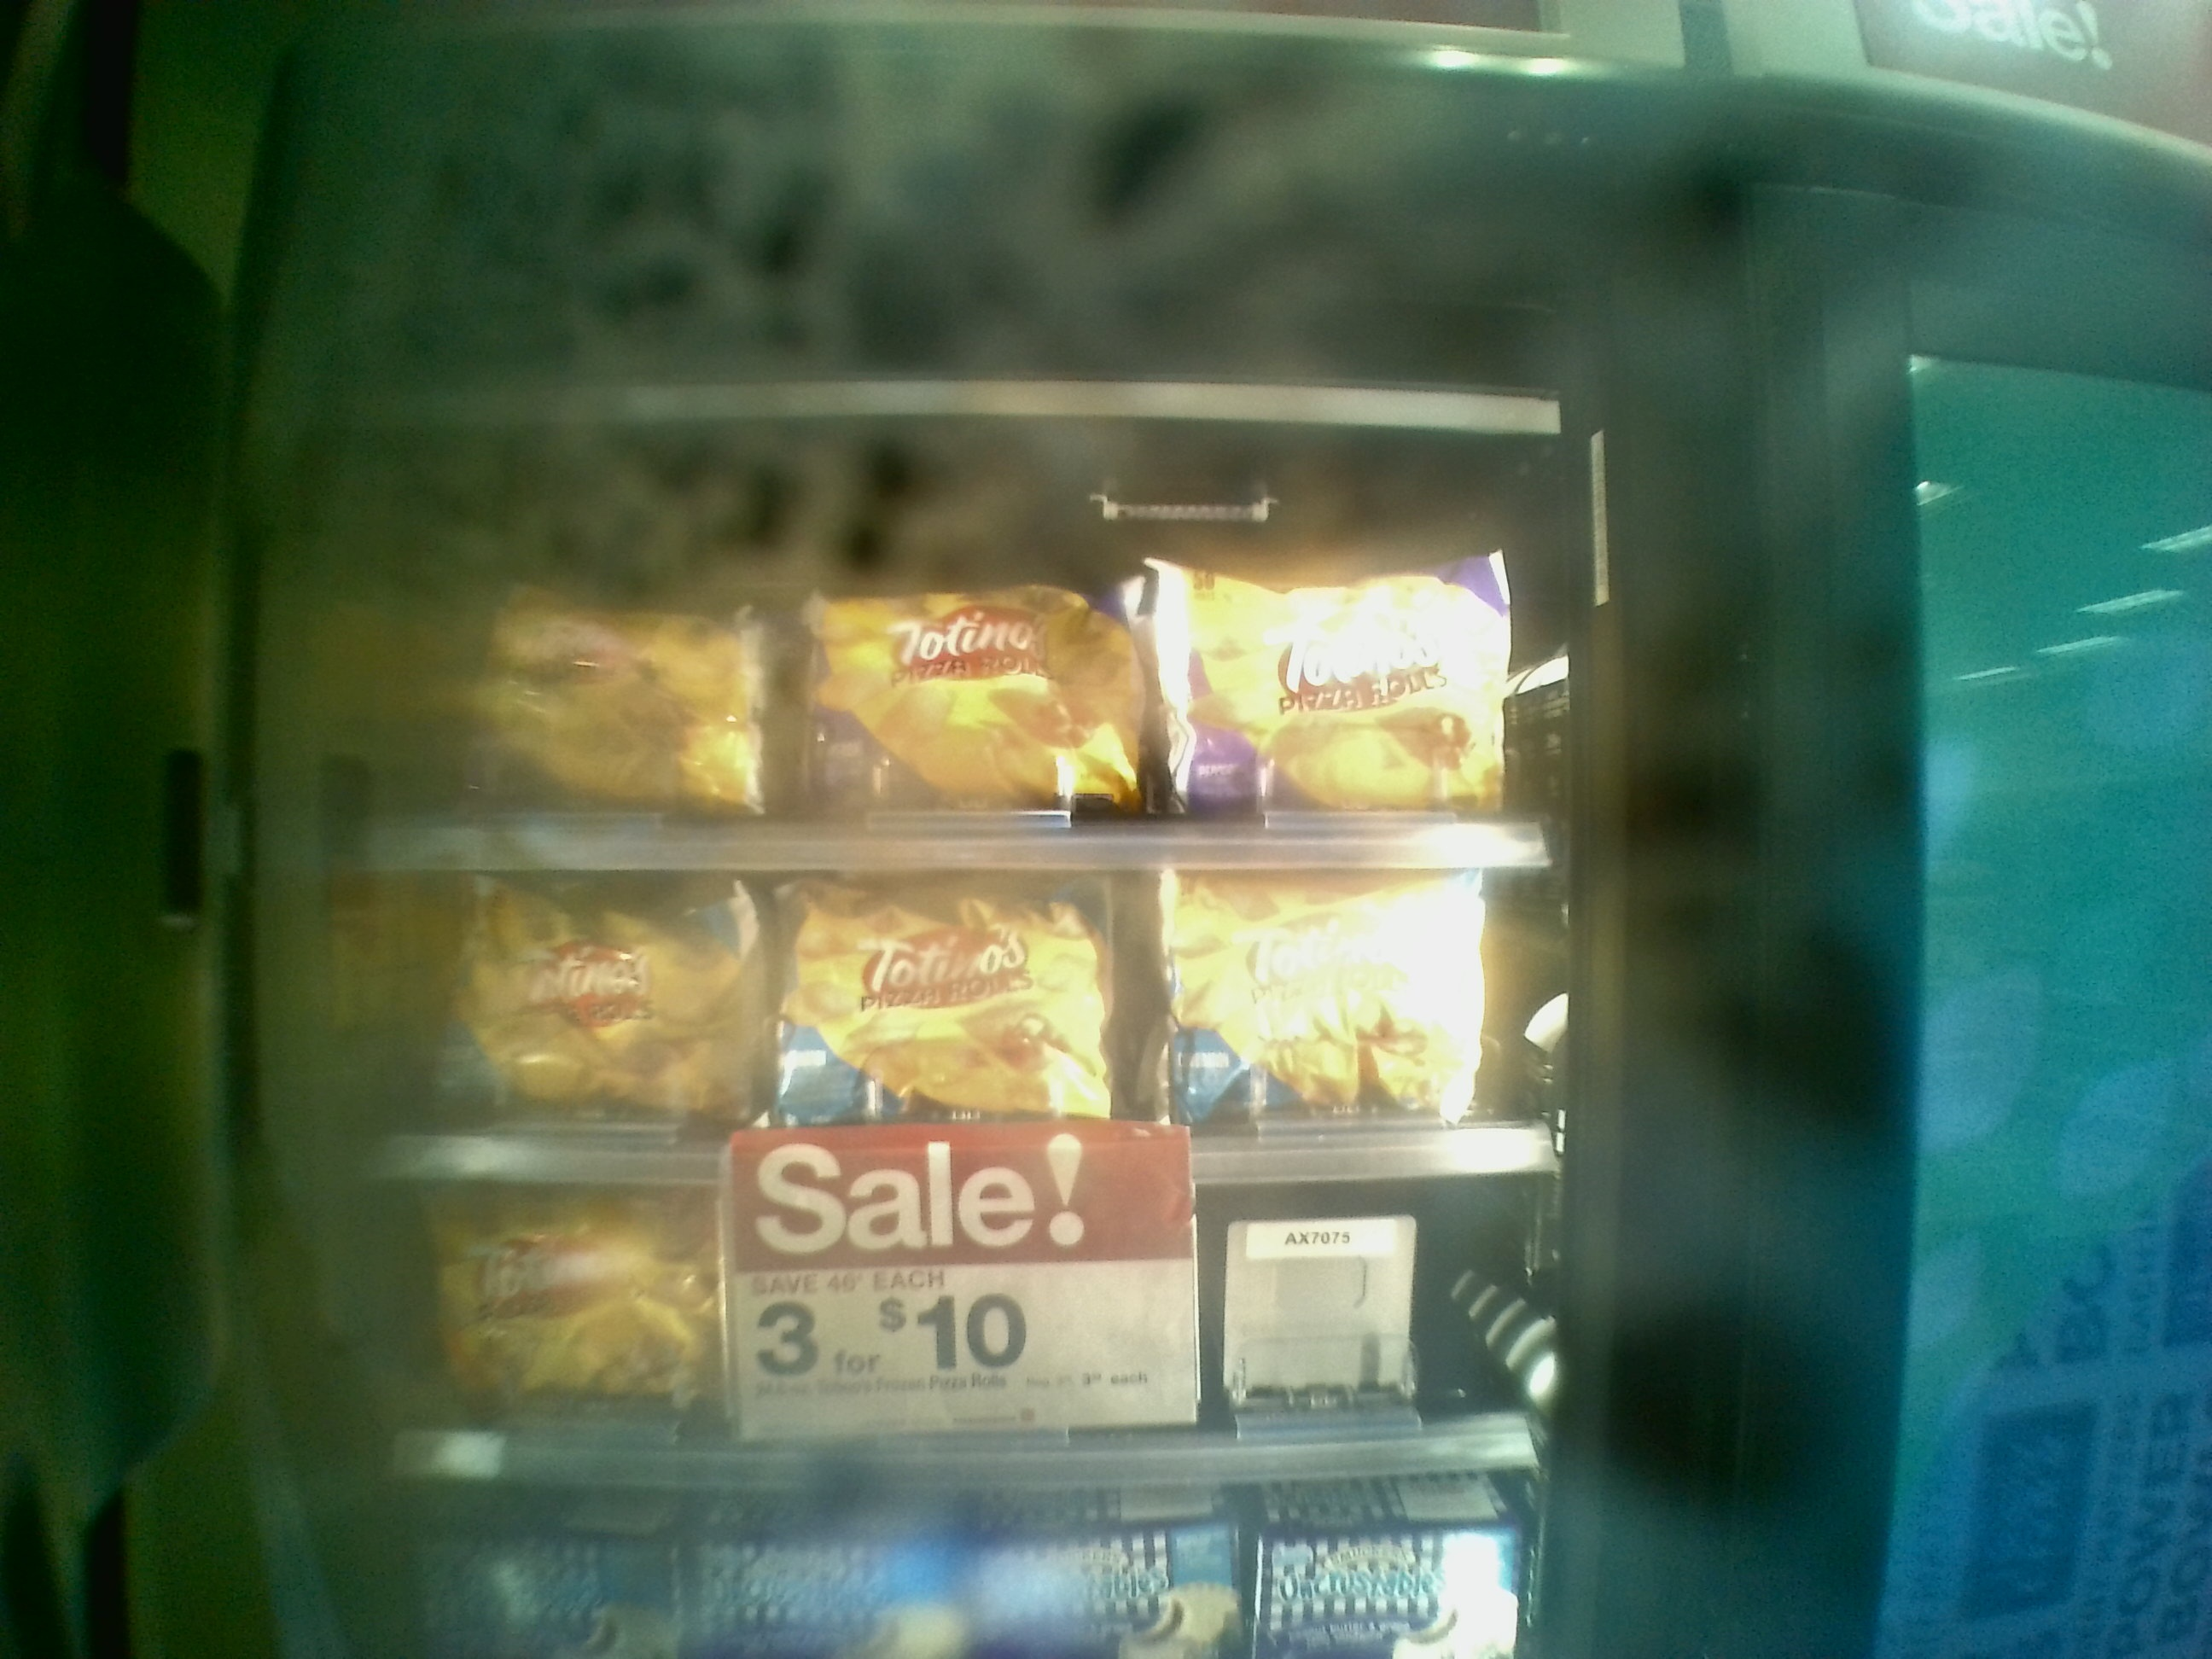shelf: (394, 430, 1531, 871), (361, 1166, 1561, 1490), (371, 868, 1534, 1173)
